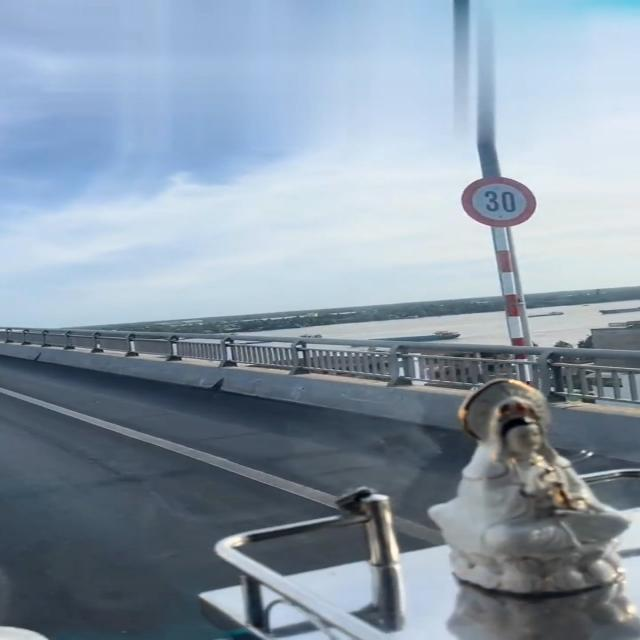127-toc-do-toi-da-30: (462, 175, 539, 228)
